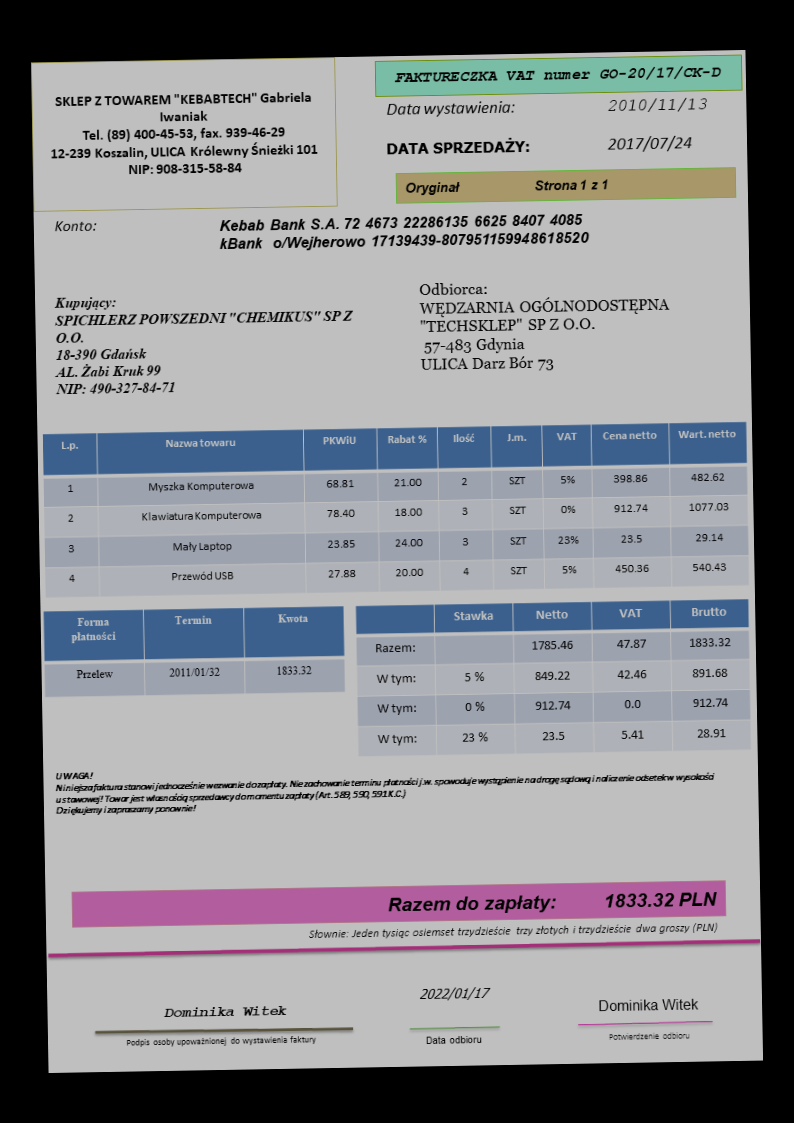Table: (39, 417, 751, 599), (353, 597, 752, 758), (42, 604, 344, 699)
TextBox: (51, 756, 715, 819), (52, 289, 358, 401), (416, 273, 675, 380), (48, 84, 323, 182), (215, 208, 592, 256), (383, 887, 721, 917), (306, 918, 722, 942), (390, 62, 728, 85), (401, 175, 611, 199), (123, 1032, 318, 1050), (383, 135, 532, 158), (384, 95, 516, 119), (160, 1002, 291, 1022), (595, 993, 703, 1015), (607, 93, 709, 114), (605, 132, 692, 155), (418, 981, 497, 1004), (607, 1028, 692, 1046), (50, 214, 101, 238), (421, 1032, 484, 1049)
